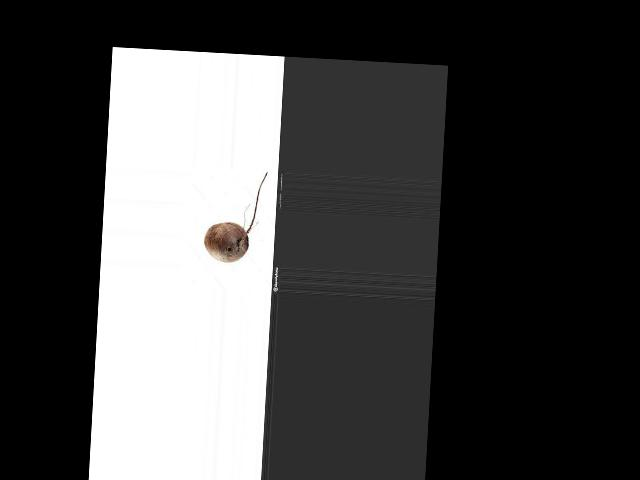beet: (204, 168, 268, 263)
